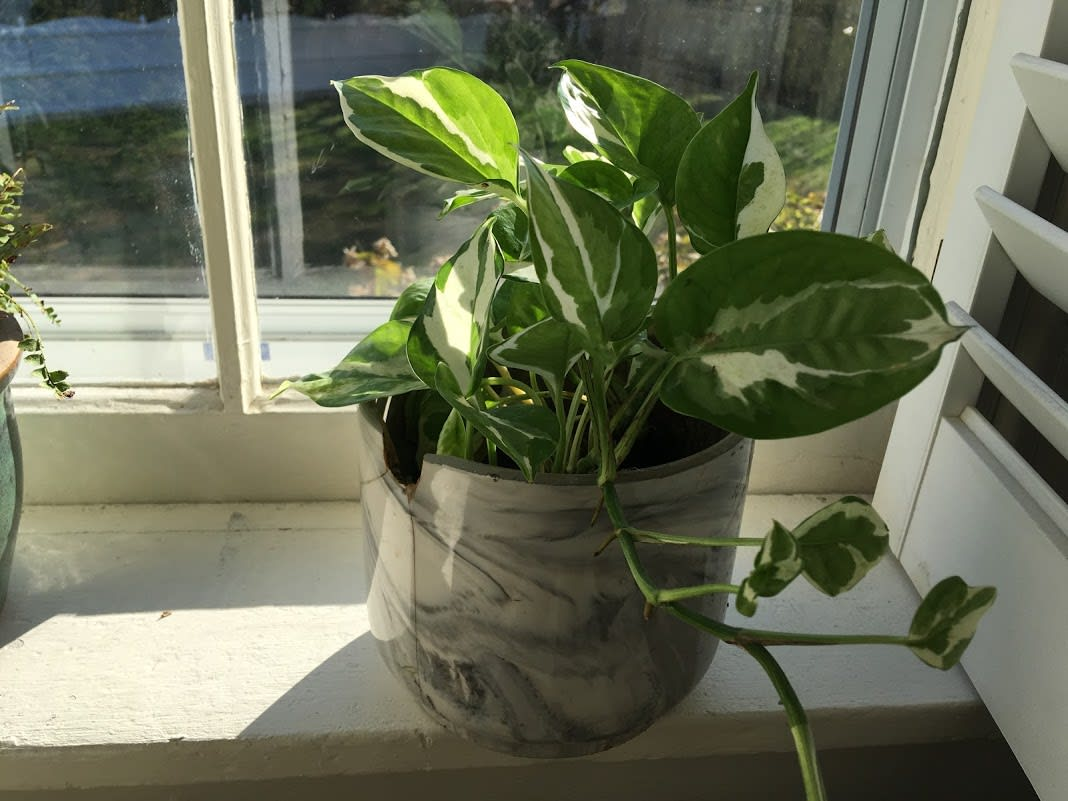pottedplant: (270, 55, 1015, 762)
